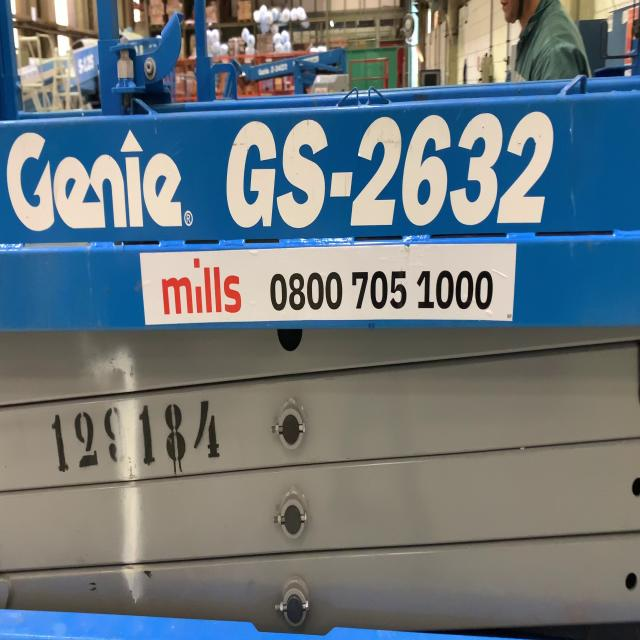Adesivo Longo: (137, 239, 520, 329)
